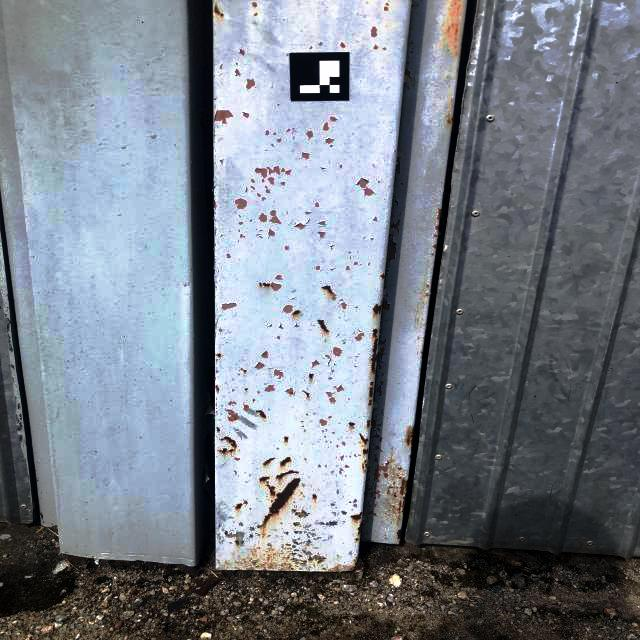Corrosion: (259, 478, 301, 529), (446, 0, 463, 56), (328, 556, 365, 573), (218, 437, 237, 454), (370, 338, 378, 375), (276, 470, 299, 479), (317, 319, 329, 333), (400, 476, 408, 496), (407, 428, 414, 448), (372, 303, 382, 316), (266, 484, 276, 496), (279, 457, 292, 466), (360, 433, 369, 445), (263, 458, 276, 466), (368, 382, 374, 399), (322, 285, 333, 294), (350, 512, 362, 520), (446, 112, 454, 124), (266, 559, 276, 568), (314, 556, 325, 564), (256, 410, 267, 418), (356, 522, 362, 536), (361, 460, 367, 471), (214, 4, 220, 15), (302, 390, 310, 398), (298, 510, 306, 518), (354, 571, 361, 579), (396, 529, 401, 540), (259, 476, 270, 481), (373, 329, 378, 339), (362, 448, 369, 455), (235, 503, 243, 509), (292, 310, 301, 315), (396, 515, 400, 526), (398, 501, 401, 514), (308, 373, 314, 379), (263, 283, 271, 287), (392, 506, 396, 514), (367, 419, 370, 429), (368, 399, 372, 406), (235, 539, 239, 546), (266, 554, 270, 561), (287, 566, 294, 570), (312, 494, 317, 499), (284, 437, 289, 442), (381, 273, 385, 279), (349, 422, 355, 426), (215, 385, 219, 391), (226, 534, 233, 537), (252, 561, 257, 565), (216, 427, 220, 432), (217, 354, 221, 358), (280, 568, 285, 571), (285, 547, 292, 549), (259, 283, 262, 287), (355, 538, 359, 541), (265, 481, 269, 484), (220, 14, 224, 17), (256, 565, 260, 568), (251, 551, 254, 555), (243, 370, 247, 373), (308, 559, 313, 561), (284, 563, 289, 565), (296, 522, 299, 525), (287, 556, 290, 559), (380, 300, 382, 304), (286, 544, 290, 546), (244, 559, 246, 563), (421, 351, 423, 354), (262, 564, 265, 566), (273, 553, 276, 555), (258, 547, 260, 550), (388, 514, 390, 516), (296, 560, 300, 561), (278, 555, 280, 557), (253, 400, 255, 402), (271, 285, 273, 287), (393, 493, 396, 494), (236, 532, 239, 533), (300, 421, 303, 422), (277, 104, 280, 105), (249, 560, 251, 561), (250, 529, 252, 530), (245, 389, 247, 390), (258, 392, 260, 393), (300, 555, 301, 556), (265, 563, 266, 564), (292, 392, 293, 393)
